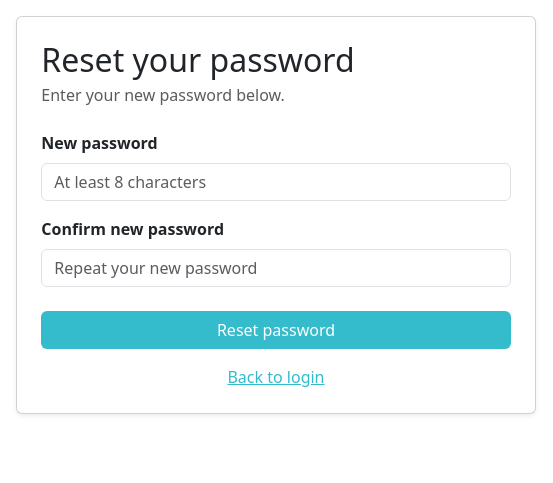
it: ResetPasswordPage › clears a field validation error when the user types in that field
Click the button "Reset password" at (276, 330), box 41,311 -> 511,349
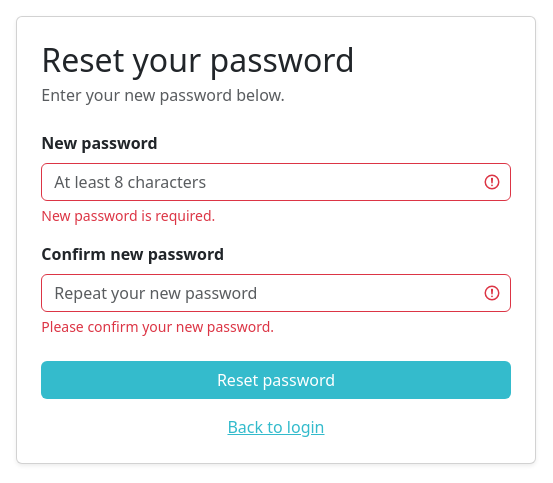
expect the text "New password is required." is shown: met, box 41,206 -> 215,225
Type "p" into the password field labelled "New password" at (276, 182), box 41,163 -> 511,201
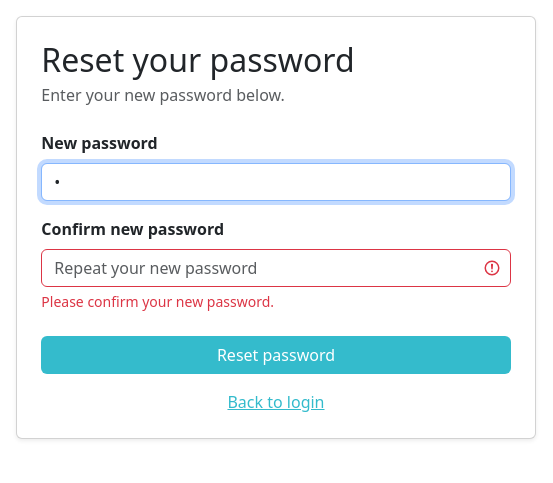
expect the text "New password is required" is gone: met
